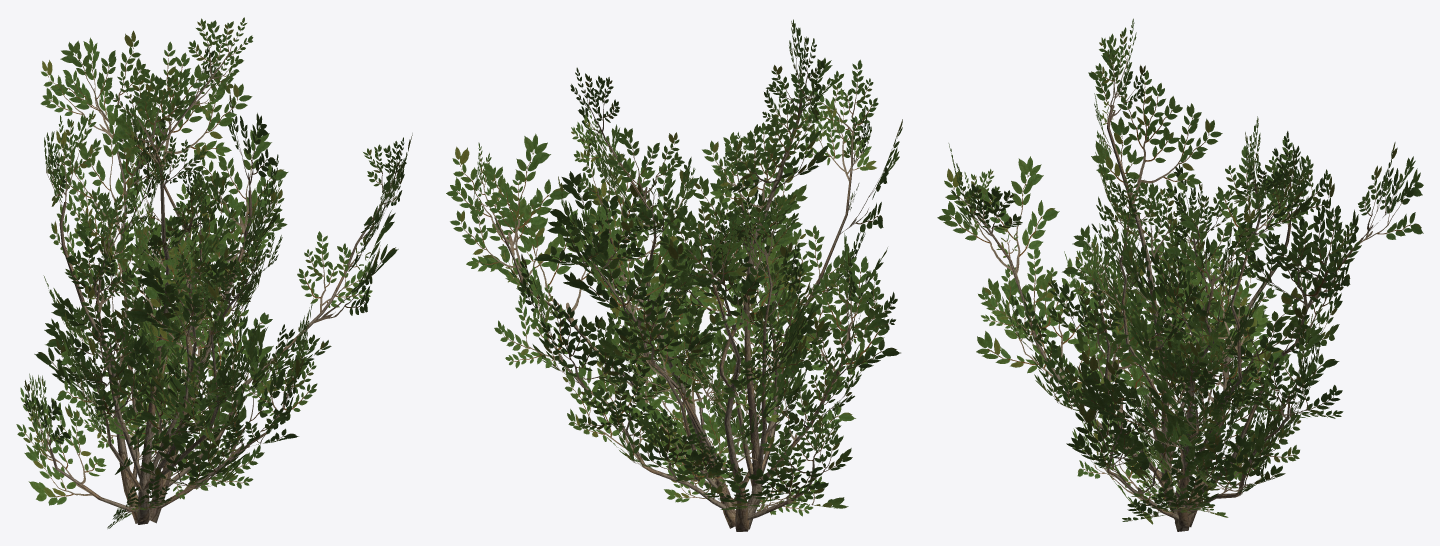
File: bush1_l0.glb
3 views of the same model, side by side, from view 1: azimuth 30°, elevation 25°; view 2: azimuth 150°, elevation 25°; view 3: azimuth 270°, elevation 25° (orthographic).
Visible parts, largest first — view 1: Bush_big_001_LOD0_Brunch_material_0, Bush_big_001_LOD0_Bark_material_0; view 2: Bush_big_001_LOD0_Brunch_material_0, Bush_big_001_LOD0_Bark_material_0; view 3: Bush_big_001_LOD0_Brunch_material_0, Bush_big_001_LOD0_Bark_material_0.
Part boxes in pixels (<box>): Bush_big_001_LOD0_Brunch_material_0: <box>16,17,412,528</box>; Bush_big_001_LOD0_Bark_material_0: <box>49,83,380,524</box>; Bush_big_001_LOD0_Brunch_material_0: <box>446,19,902,516</box>; Bush_big_001_LOD0_Bark_material_0: <box>494,100,853,531</box>; Bush_big_001_LOD0_Brunch_material_0: <box>937,18,1423,524</box>; Bush_big_001_LOD0_Bark_material_0: <box>973,105,1363,531</box>.
Size of the model in its own units: 1.48 by 1.7 by 1.55.
Materials: 2 (2 with a texture image).
